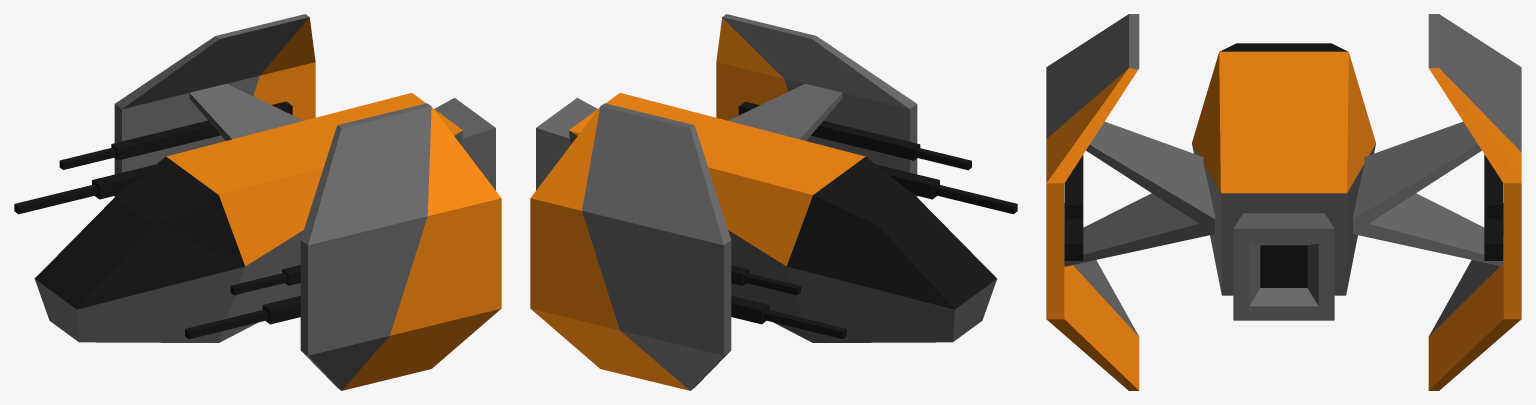
File: Rescate.FBX
3 renders of one model, left to right at view 1: azimuth 30°, elevation 25°; view 2: azimuth 150°, elevation 25°; view 3: azimuth 270°, elevation 25°, orthographic. The views are drawn at different scales.
Visible parts, largest first — view 1: 4; view 2: 4; view 3: 4.
Boxes of the visible parts, box(x1,y1,x2,y2) form: 4: box(14, 14, 501, 390); 4: box(530, 14, 1017, 390); 4: box(1046, 14, 1521, 390).
Size of the model in its own units: 63.35 by 37.9 by 50.57.
